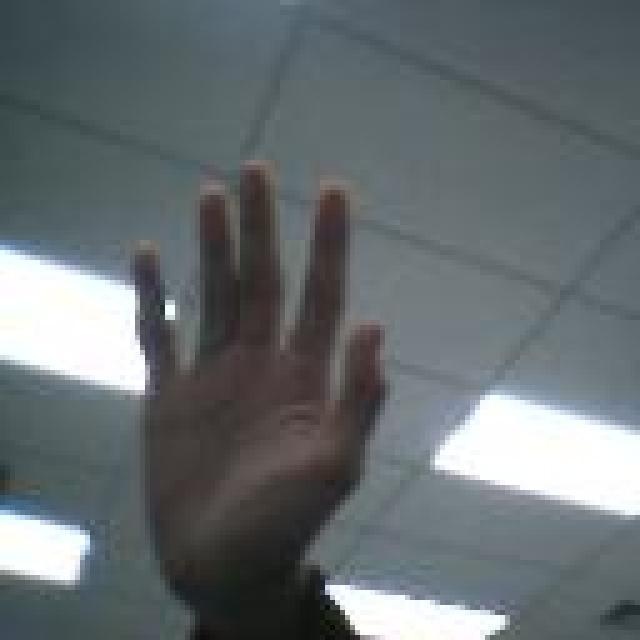no-gloves: (120, 150, 400, 625)
